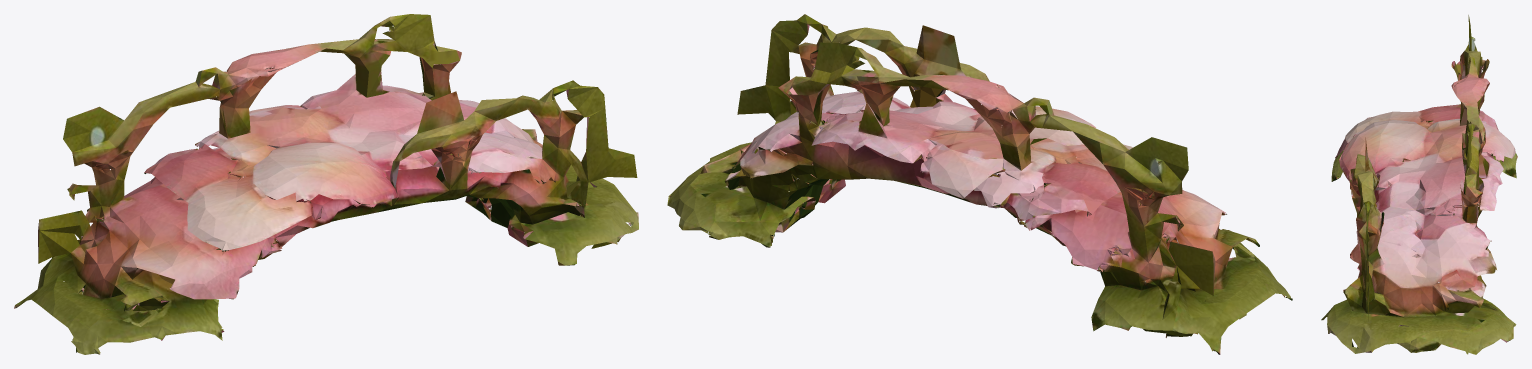
Rendered from fairy_flower_bridge_1117.glb.
3 renders of one model, left to right at view 1: azimuth 30°, elevation 25°; view 2: azimuth 150°, elevation 25°; view 3: azimuth 270°, elevation 25°, orthographic. The views are drawn at different scales.
Visible parts, largest first — view 1: world; view 2: world; view 3: world.
Boxes of the visible parts, left/top/right/bottom form: world: left=14, top=14, right=638, bottom=354; world: left=667, top=14, right=1292, bottom=354; world: left=1321, top=15, right=1517, bottom=354.
Bounding box in the file's own units: 2.82 × 1 × 1.07.
1 material, 1 textured.
